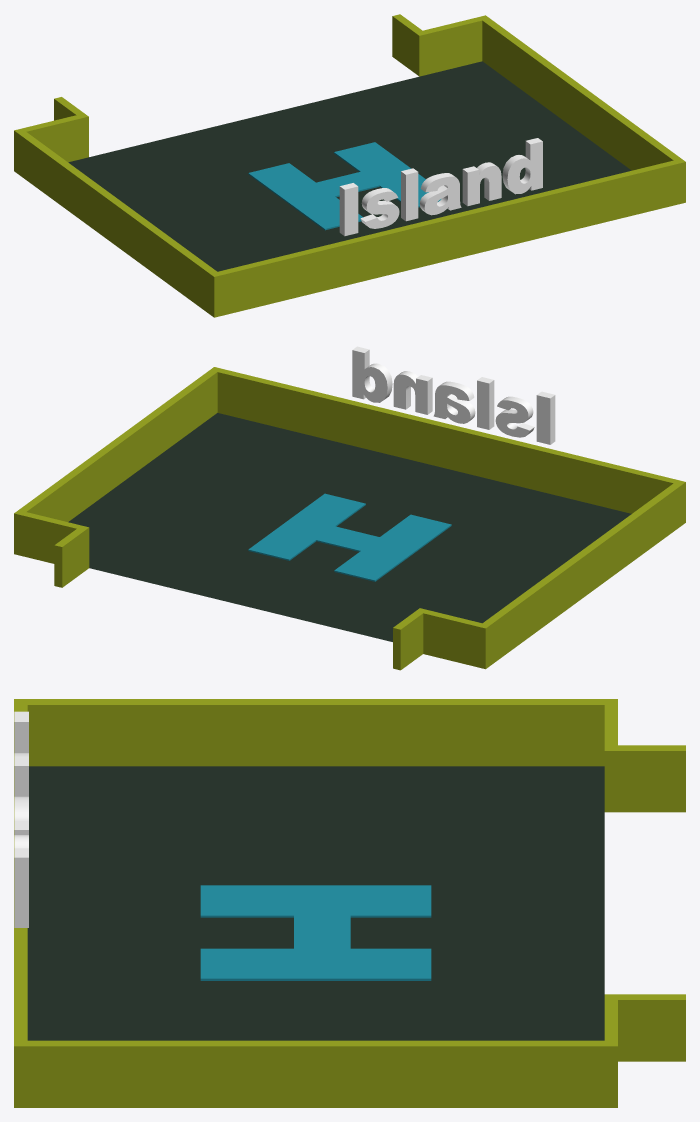
Rendered from island.fbx.
3 views of the same model, one above another, from view 1: azimuth 30°, elevation 25°; view 2: azimuth 150°, elevation 25°; view 3: azimuth 270°, elevation 25° (orthographic). The views are drawn at different scales.
Visible parts, largest first — view 1: island, text_island; view 2: island, text_island; view 3: island, text_island.
Boxes of the visible parts, <box> form: island: <box>14,14,685,317</box>; text_island: <box>339,138,542,236</box>; island: <box>14,367,685,670</box>; text_island: <box>352,346,555,444</box>; island: <box>14,699,685,1107</box>; text_island: <box>14,711,28,927</box>.
Size of the model in its own units: 8.75 by 1.85 by 7.16.
